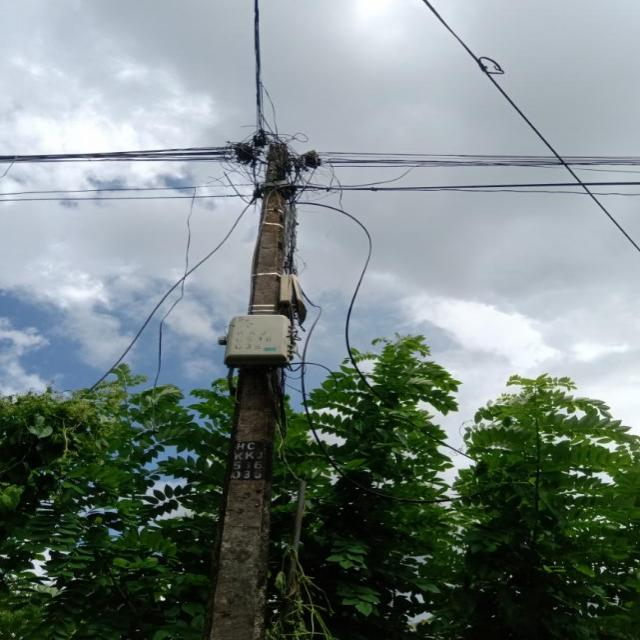light_pole: (190, 120, 310, 640)
